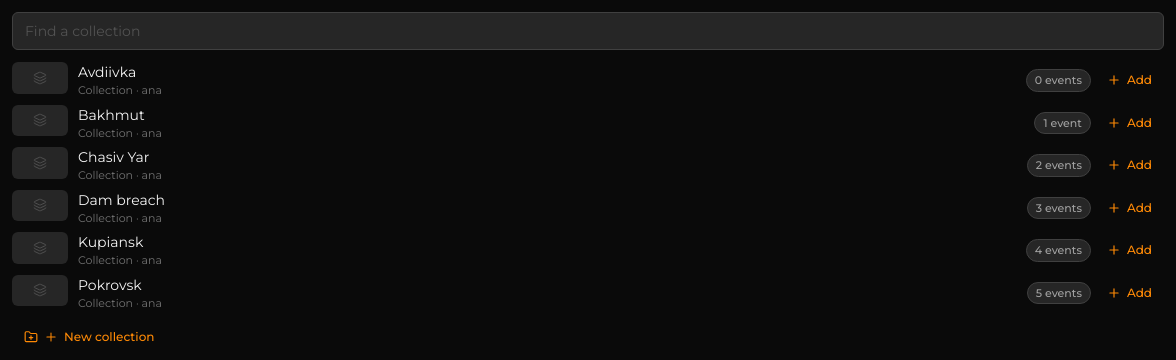
Scenario: BulkAddToCollectionPanel › finds a collection by title
Type "  ba" into the dropdown labelled "Find a collection" at (588,31), box [12,12,1164,50]
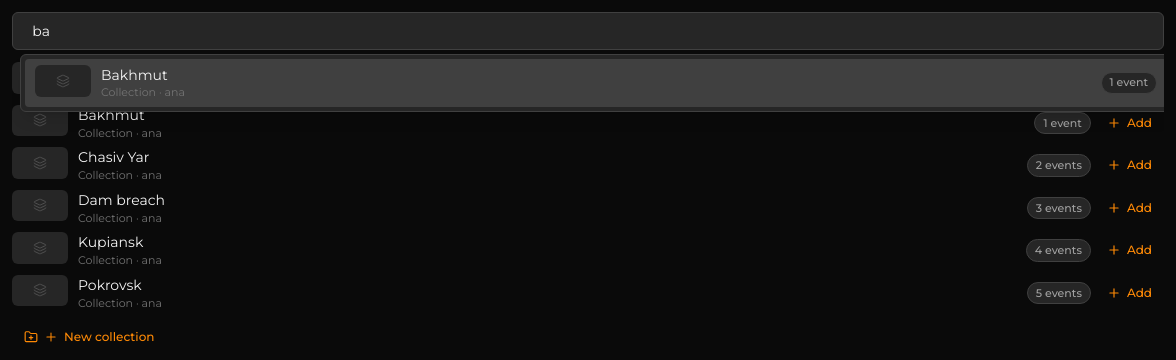
Replace the text in the dropdown named "Find a collection" with "zzz" at (588,31), box [12,12,1164,50]
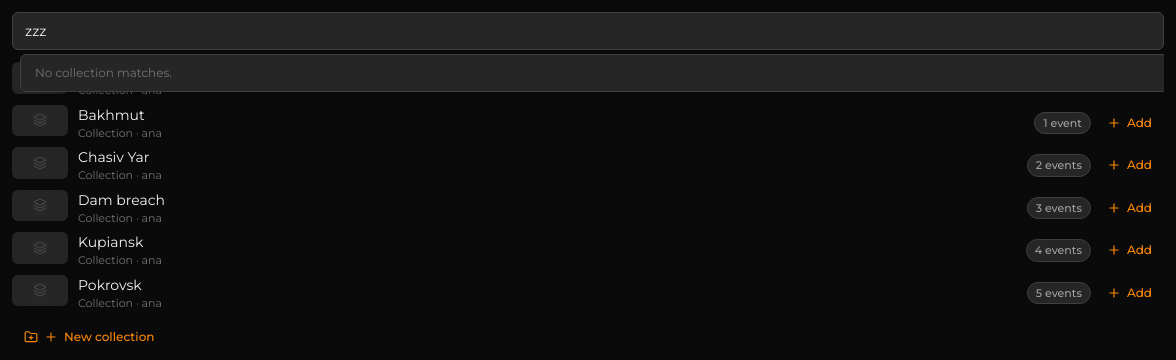
Check: the text "No collection matches." is shown, box [35,65,172,80]
